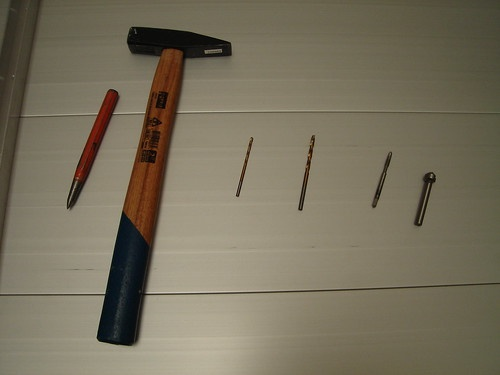hammer: (94, 25, 233, 346)
